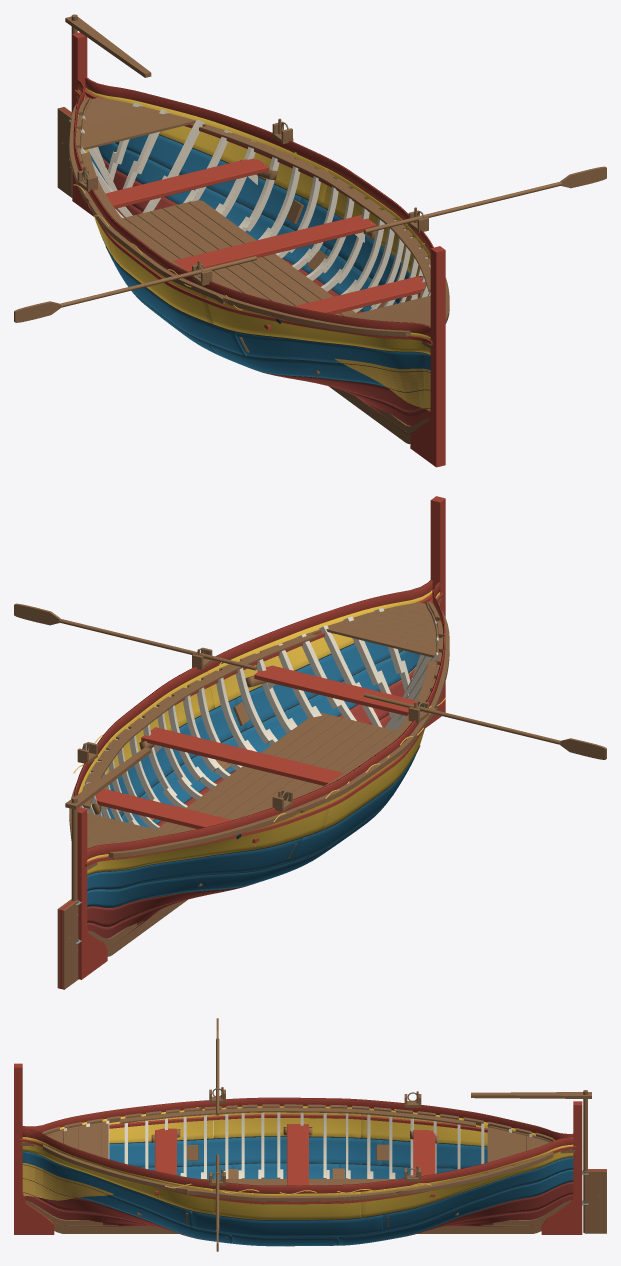
The model's file is firilla.glb.
3 views of the same model, one above another, from view 1: azimuth 30°, elevation 25°; view 2: azimuth 150°, elevation 25°; view 3: azimuth 270°, elevation 25° (orthographic). The views are drawn at different scales.
Parts seen in each view (by area): view 1: bow-post-5, washboards-103, washboards-40, planking-32, sheer-strake-38, sheer-strake-99, thwarts-498, planking-93, planking-79, thwarts-485, catwalks-132, planking-18 (+30 smaller); view 2: planking-30, washboards-103, washboards-40, sheer-strake-36, thwarts-498, planking-16, sheer-strake-101, thwarts-511, planking-81, planking-95, stern-post-6, catwalks-132 (+28 smaller); view 3: washboards-103, washboards-40, planking-31, planking-94, sheer-strake-100, planking-93, sheer-strake-37, sheer-strake-99, planking-79, sheer-strake-101, planking-95, bow-post-5 (+34 smaller).
Part boxes in pixels (x1,y1,x2,y2): bow-post-5: [410, 246, 445, 467]; washboards-103: [85, 77, 433, 253]; washboards-40: [73, 79, 430, 337]; planking-32: [234, 332, 430, 370]; sheer-strake-38: [207, 296, 430, 354]; sheer-strake-99: [85, 87, 329, 206]; thwarts-498: [173, 215, 376, 271]; planking-93: [115, 134, 301, 226]; planking-79: [98, 143, 327, 272]; thwarts-485: [105, 158, 269, 208]; catwalks-132: [200, 125, 430, 291]; planking-18: [209, 344, 385, 386]; planking-30: [87, 838, 302, 890]; washboards-103: [73, 580, 432, 796]; washboards-40: [87, 582, 445, 859]; sheer-strake-36: [87, 801, 329, 875]; thwarts-498: [141, 727, 343, 785]; planking-16: [87, 847, 328, 907]; sheer-strake-101: [207, 590, 432, 707]; thwarts-511: [254, 665, 415, 715]; planking-81: [221, 651, 419, 773]; planking-95: [235, 641, 402, 728]; stern-post-6: [77, 807, 107, 979]; catwalks-132: [82, 633, 317, 808]; washboards-103: [22, 1129, 573, 1193]; washboards-40: [22, 1097, 573, 1139]; planking-31: [192, 1137, 382, 1165]; planking-94: [192, 1211, 382, 1237]; sheer-strake-100: [213, 1189, 360, 1219]; planking-93: [382, 1157, 573, 1231]; sheer-strake-37: [213, 1106, 360, 1138]; sheer-strake-99: [360, 1144, 573, 1217]; planking-79: [338, 1169, 573, 1245]; sheer-strake-101: [22, 1137, 212, 1214]; planking-95: [22, 1151, 192, 1227]; bow-post-5: [14, 1063, 54, 1234].
Bounding box in the file's own units: 4.5 × 1.56 × 5.01.
